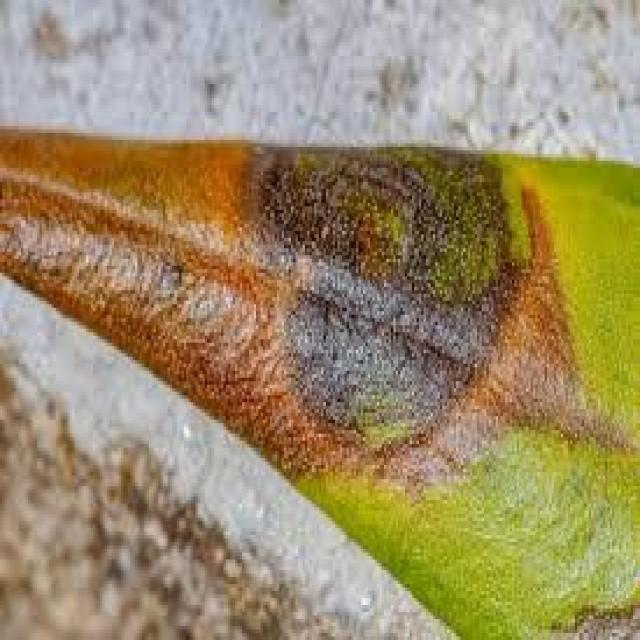OlivePeacockSpot: (0, 129, 638, 636)
